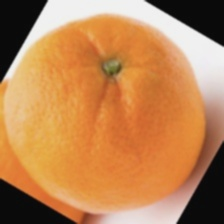orange: (57, 49, 205, 196)
